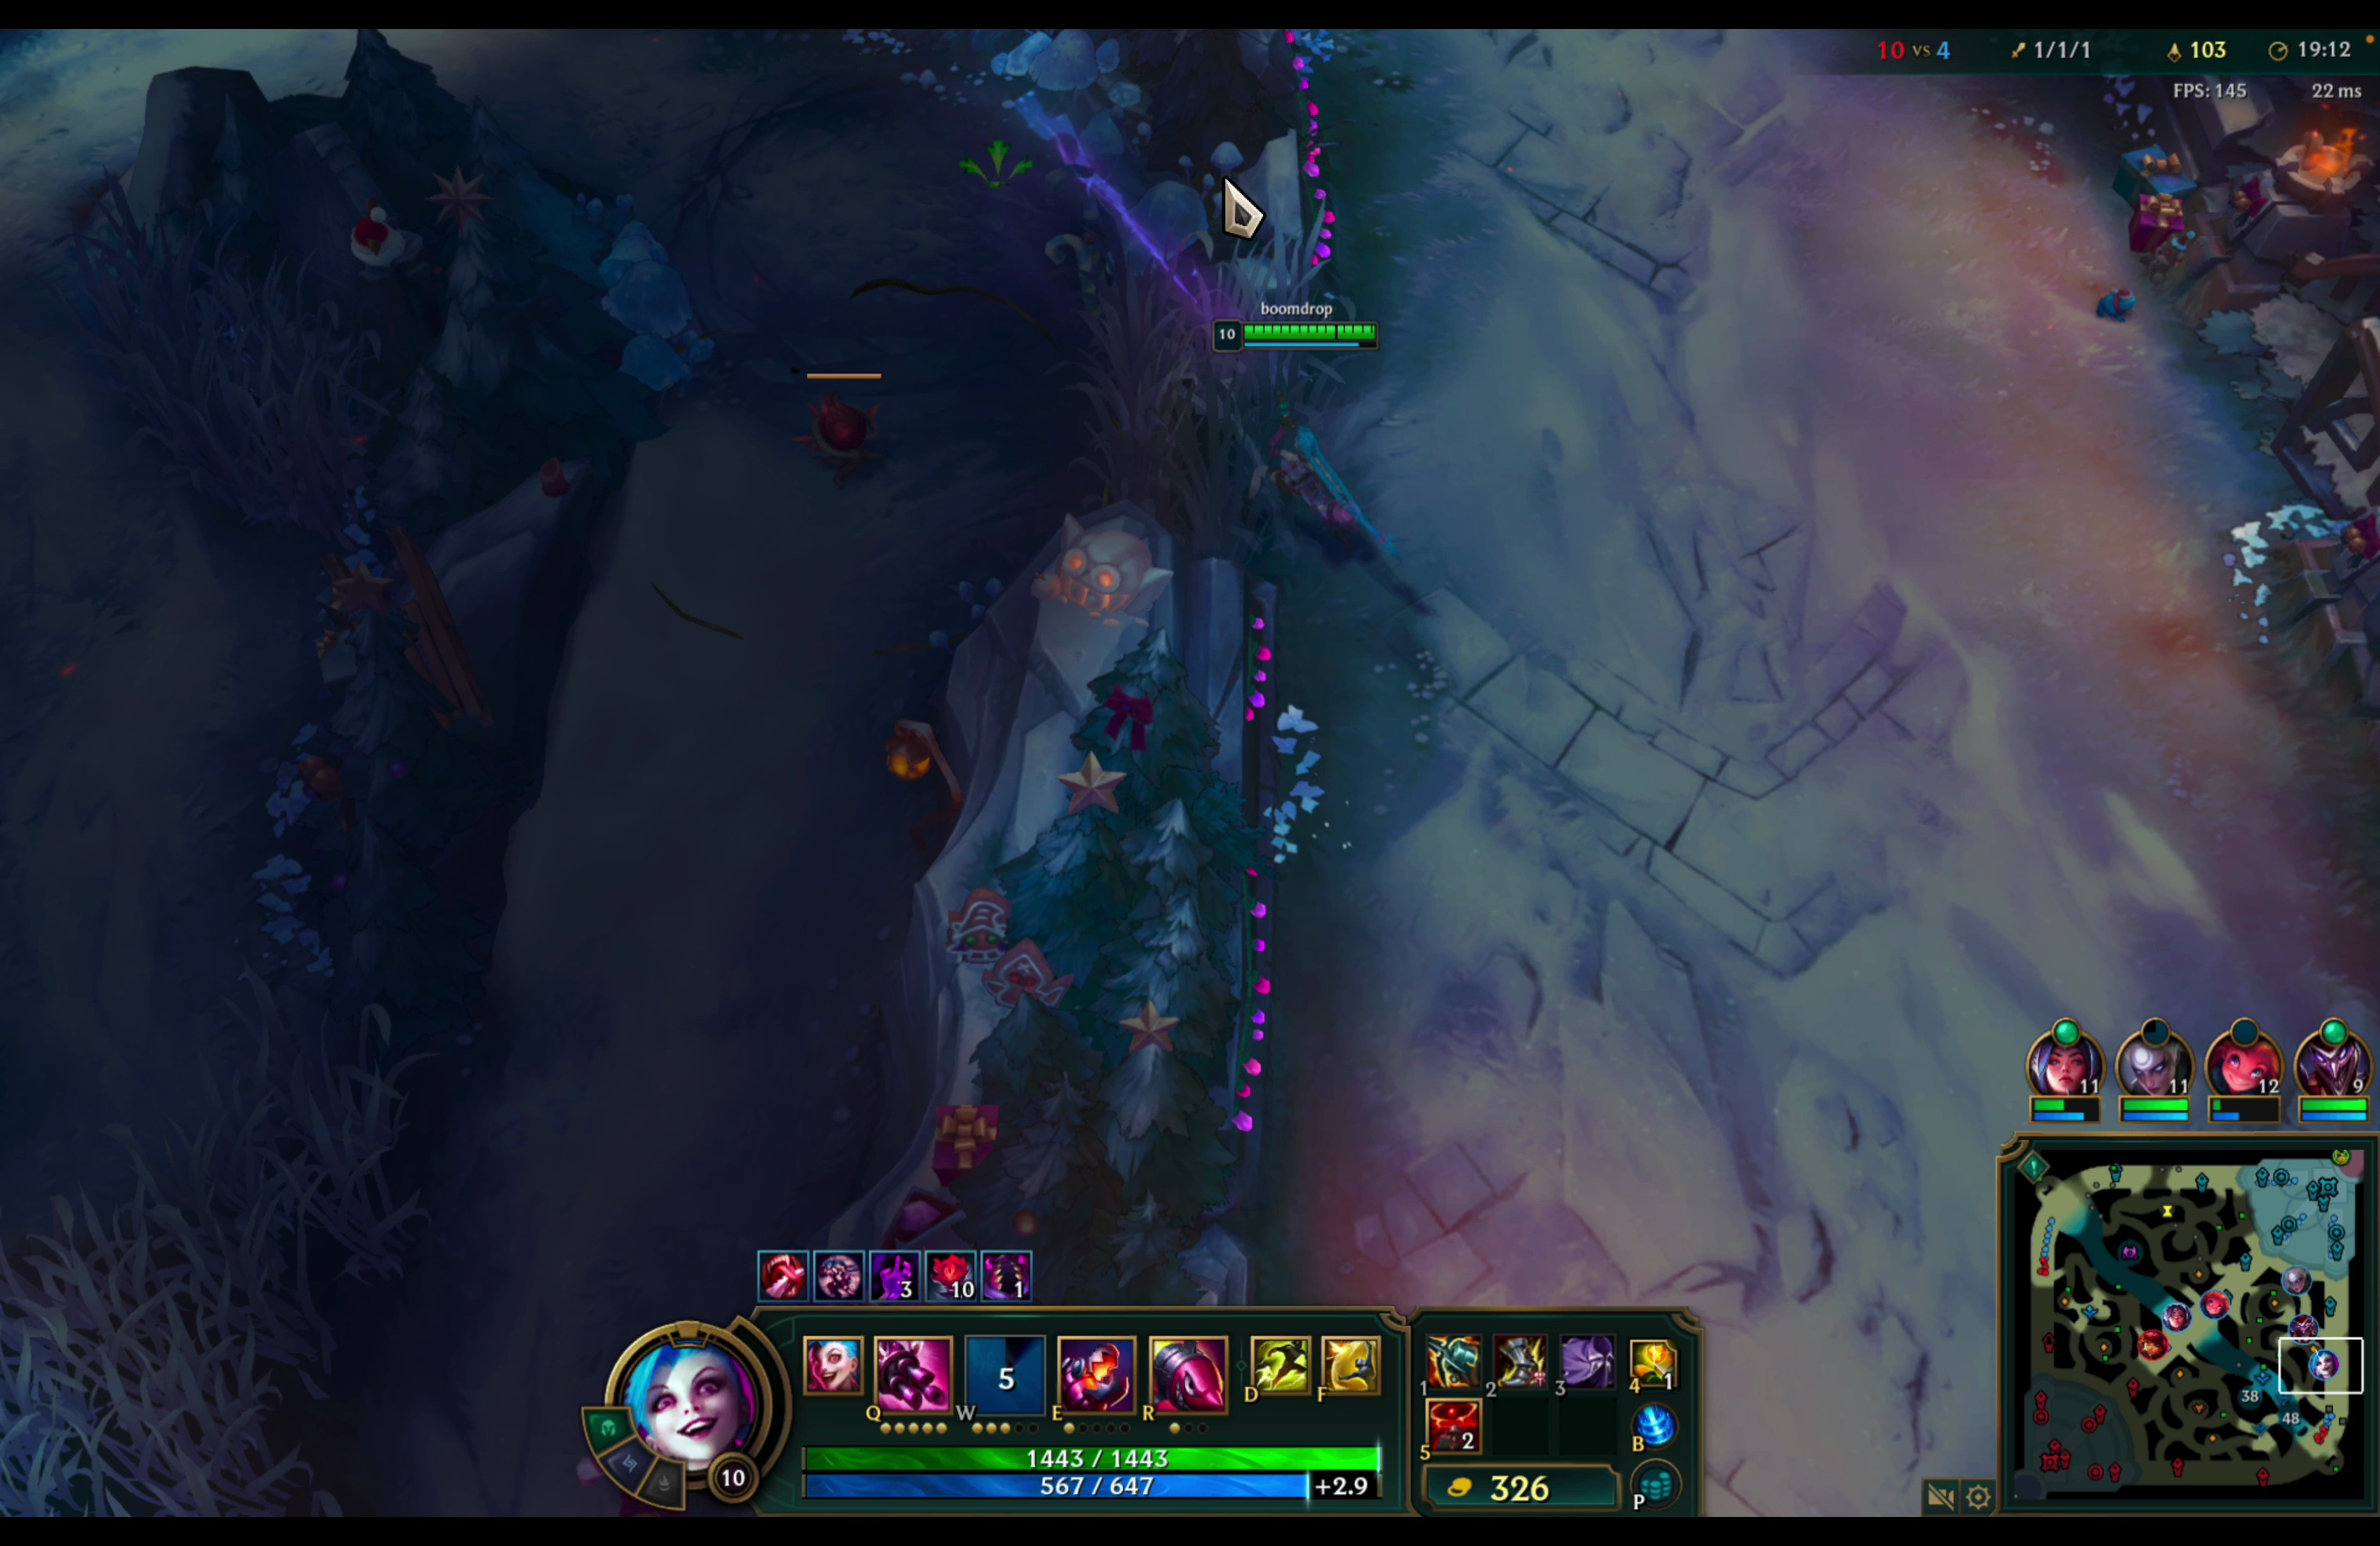JINX_W_PROJECTILE: (1067, 144, 1410, 585)
